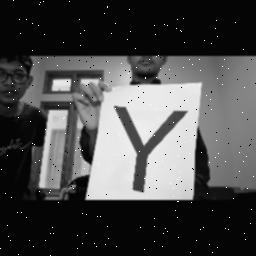y: (110, 103, 198, 191)
